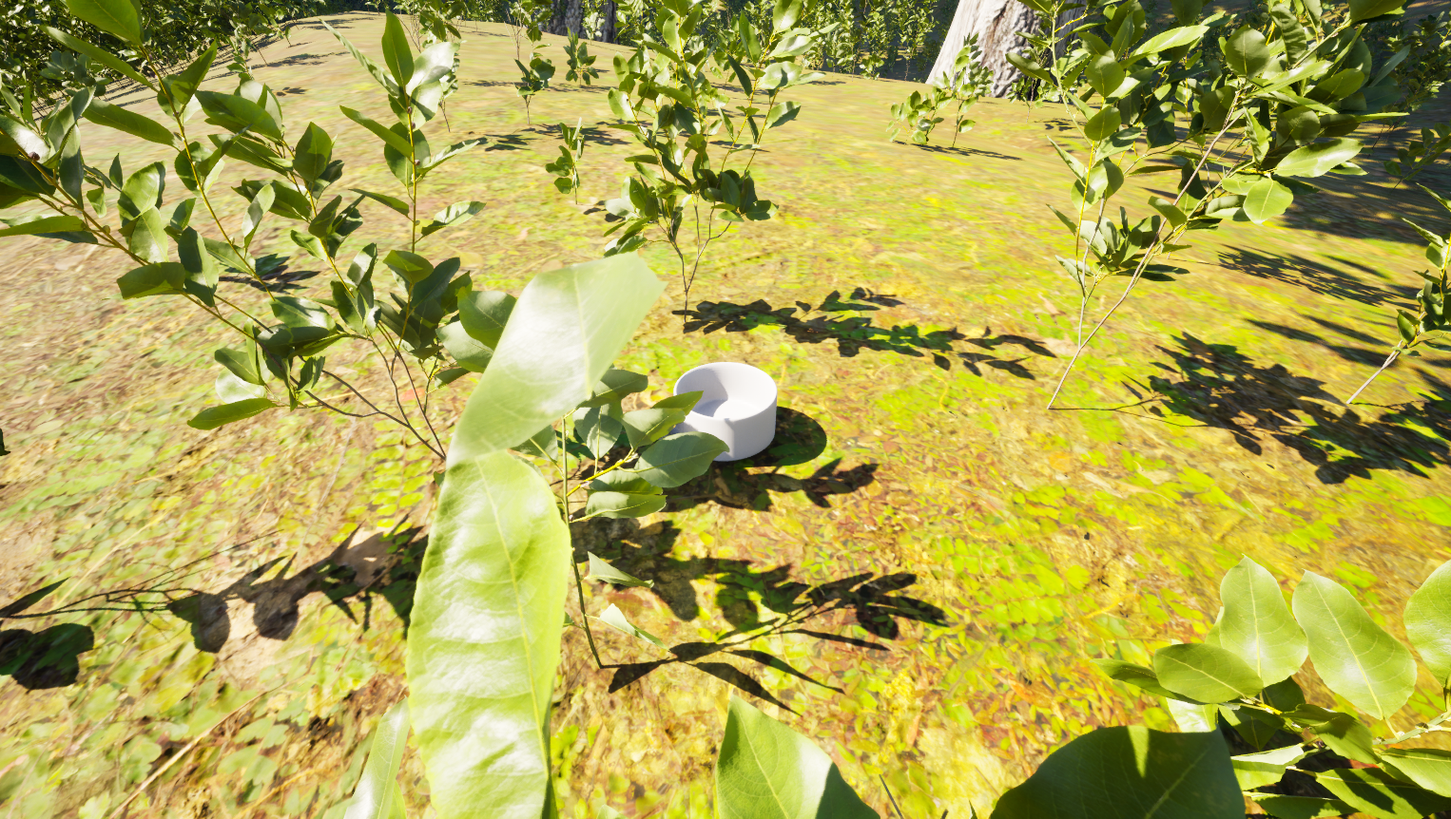Teacup: (647, 357, 781, 467)
